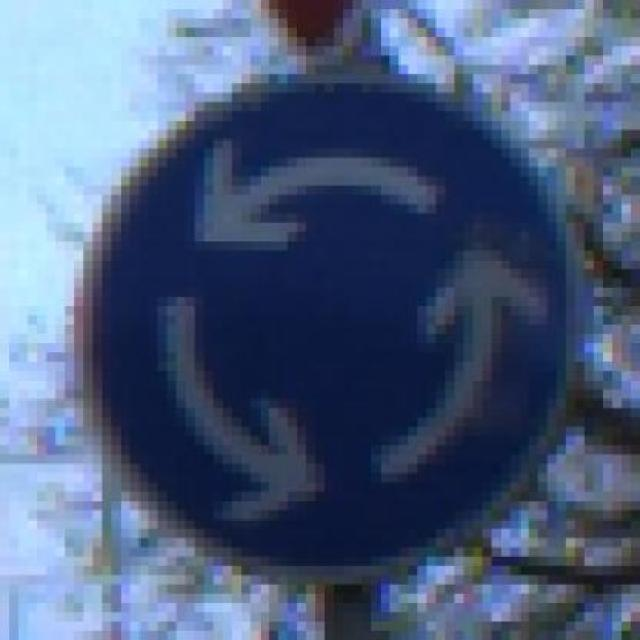Round-About: (46, 55, 603, 603)
